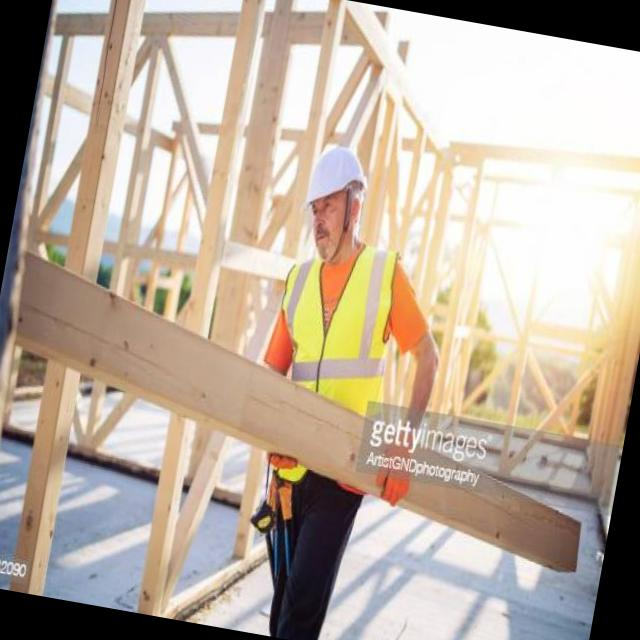Gloves: (375, 438, 429, 510)
Helmet: (300, 128, 373, 213)
Vest: (258, 252, 408, 478)
